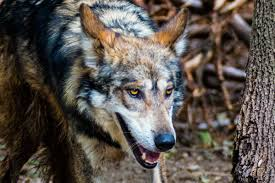Lobo: (26, 3, 187, 177)
